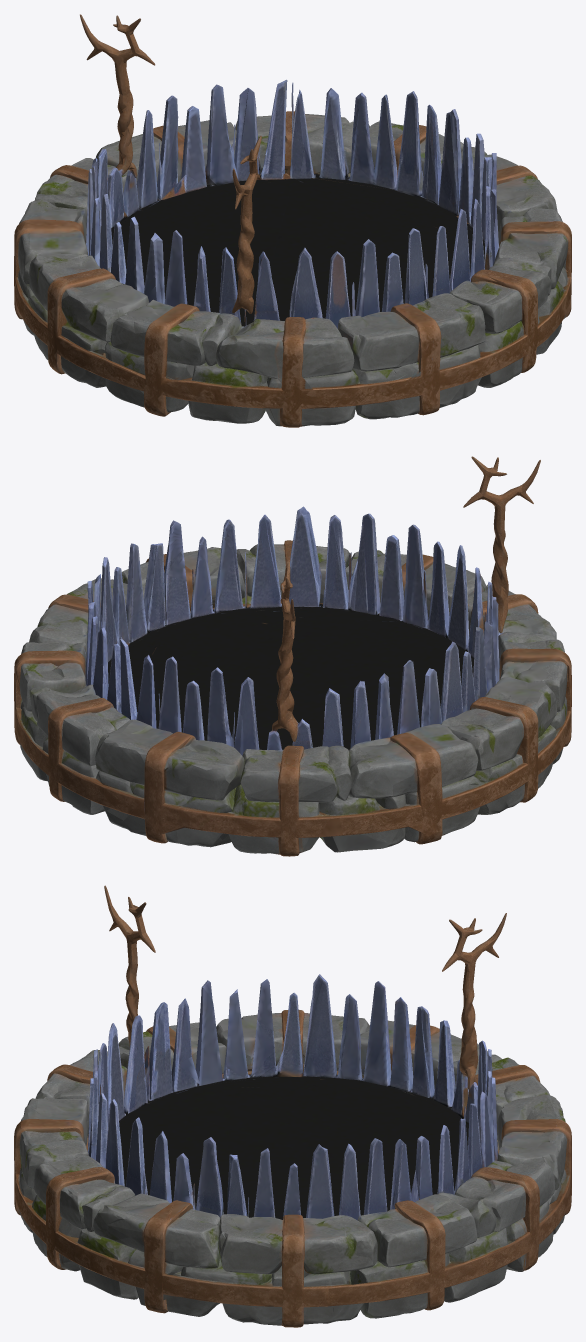
Rendered from glass_sink.glb.
The picture shows the model from 3 angles, top to bottom: view 1: azimuth 30°, elevation 25°; view 2: azimuth 150°, elevation 25°; view 3: azimuth 270°, elevation 25°; orthographic projection.
Visible parts, largest first — view 1: Mesh_0; view 2: Mesh_0; view 3: Mesh_0.
Boxes of the visible parts, x1,y1,x2,y2 form: Mesh_0: (14, 14, 571, 427); Mesh_0: (14, 456, 571, 856); Mesh_0: (14, 885, 571, 1327).
Size of the model in its own units: 1.9 by 0.9795 by 1.9.
Materials: 1 (1 with a texture image).
